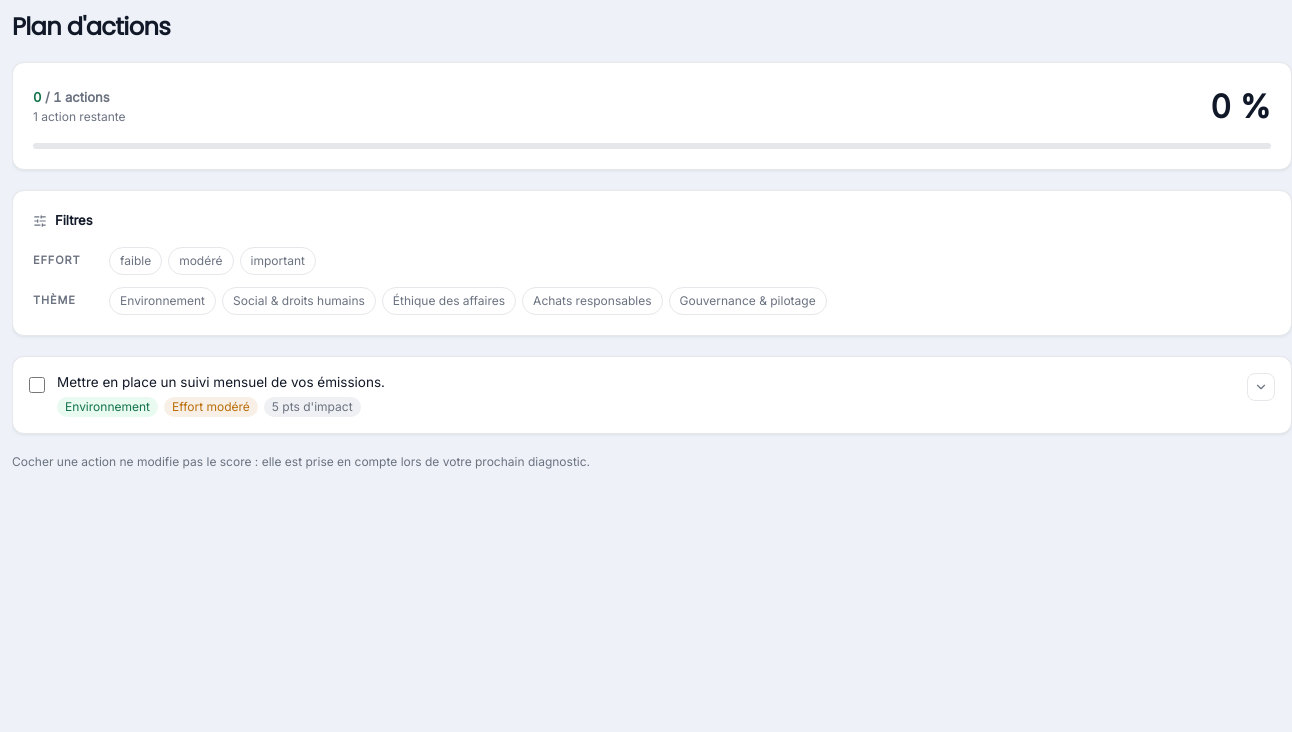
PlanActionsPage › Essential : pas d’historique
Click the button named "Voir les détails" at x=1261, y=386, box [1247,372,1275,400]
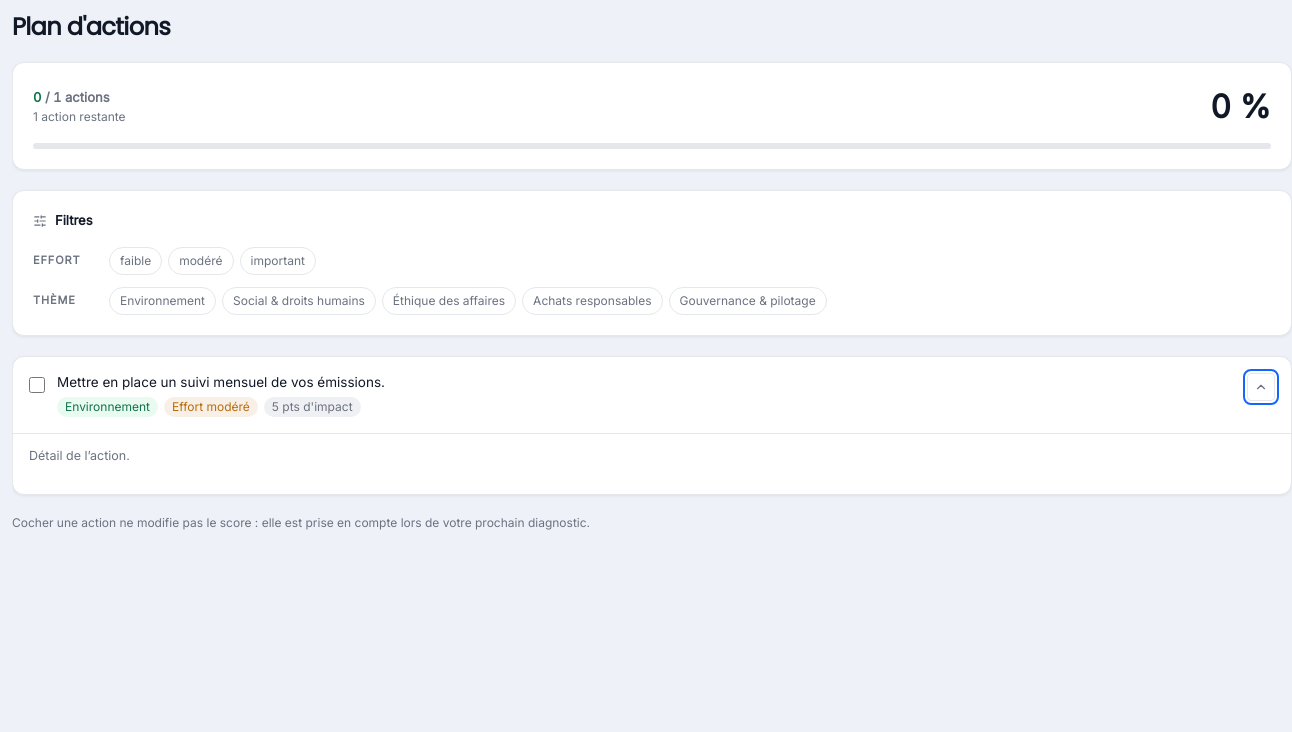
Result: the text "Détail de l’action." is shown at [29,448,130,463]
